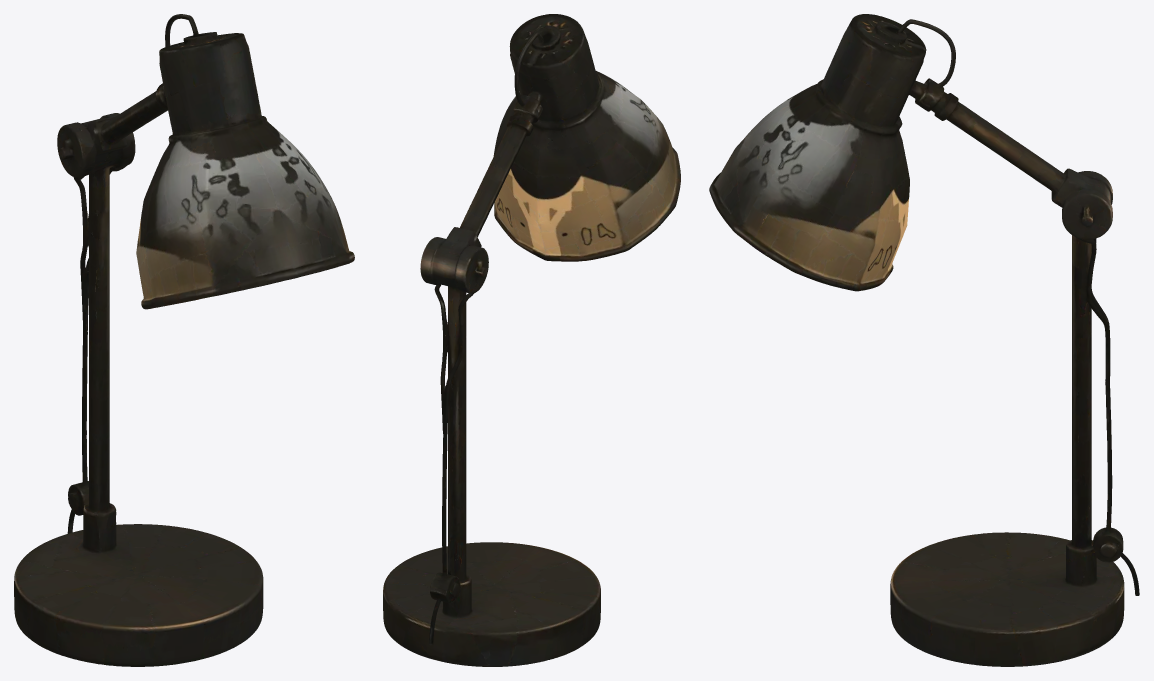
Rendered from reading-lamp.glb.
The picture shows the model from 3 angles, left to right: view 1: azimuth 30°, elevation 25°; view 2: azimuth 150°, elevation 25°; view 3: azimuth 270°, elevation 25°; orthographic projection. The views are drawn at different scales.
Size of the model in its own units: 0.673 by 1.9 by 1.24.
Materials: 1 (1 with a texture image).
